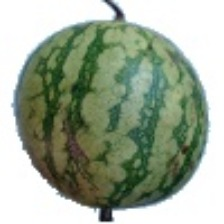watermelon: (0, 19, 201, 176)
